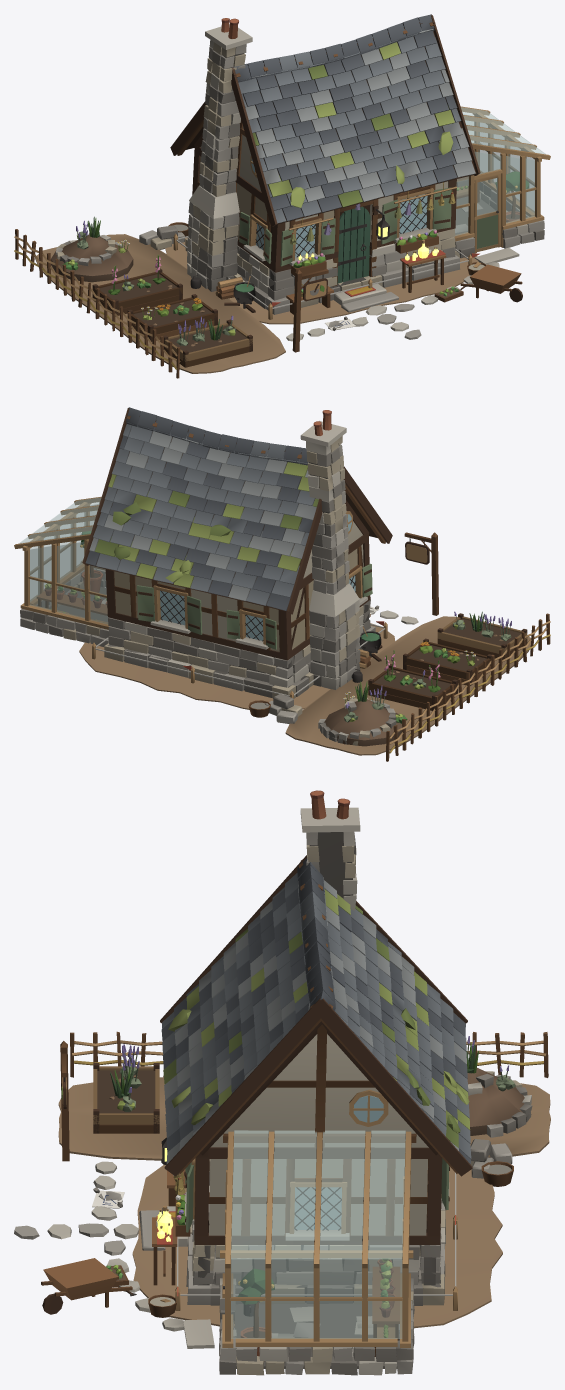
Rendered from apothecary.glb.
3 renders of one model, top to bottom at view 1: azimuth 30°, elevation 25°; view 2: azimuth 150°, elevation 25°; view 3: azimuth 270°, elevation 25°, orthographic. The views are drawn at different scales.
Visible parts, largest first — view 1: stage_06_mesh, stage_12_mesh, stage_09_mesh, stage_10_mesh, stage_08_mesh, greenhouse_glass, stage_04_mesh, stage_14_mesh, stage_01_mesh, stage_03_mesh, stage_07_mesh, stage_11_mesh (+2 smaller); view 2: stage_06_mesh, stage_12_mesh, stage_09_mesh, stage_03_mesh, stage_10_mesh, greenhouse_glass, stage_08_mesh, stage_01_mesh, stage_04_mesh, stage_05_mesh, stage_02_mesh, stage_14_mesh (+1 smaller); view 3: stage_06_mesh, greenhouse_glass, stage_10_mesh, stage_12_mesh, stage_05_mesh, stage_04_mesh, stage_01_mesh, stage_03_mesh, stage_08_mesh, stage_09_mesh, stage_11_mesh, stage_02_mesh (+2 smaller).
Part boxes in pixels (x1=…): stage_06_mesh: x1=170, y1=14, x2=480, y2=227; stage_12_mesh: x1=14, y1=229, x2=499, y2=378; stage_09_mesh: x1=187, y1=18, x2=252, y2=299; stage_10_mesh: x1=454, y1=106, x2=550, y2=263; stage_08_mesh: x1=239, y1=156, x2=451, y2=275; greenhouse_glass: x1=455, y1=107, x2=545, y2=235; stage_04_mesh: x1=192, y1=29, x2=522, y2=302; stage_14_mesh: x1=224, y1=182, x2=456, y2=352; stage_01_mesh: x1=165, y1=233, x2=479, y2=330; stage_03_mesh: x1=139, y1=222, x2=455, y2=300; stage_07_mesh: x1=334, y1=205, x2=398, y2=312; stage_11_mesh: x1=456, y1=143, x2=536, y2=252; stage_06_mesh: x1=82, y1=407, x2=392, y2=614; stage_12_mesh: x1=285, y1=607, x2=550, y2=761; stage_09_mesh: x1=300, y1=410, x2=370, y2=689; stage_03_mesh: x1=108, y1=600, x2=370, y2=723; stage_10_mesh: x1=14, y1=496, x2=109, y2=646; greenhouse_glass: x1=19, y1=497, x2=108, y2=624; stage_08_mesh: x1=137, y1=511, x2=372, y2=649; stage_01_mesh: x1=79, y1=605, x2=395, y2=709; stage_04_mesh: x1=105, y1=422, x2=370, y2=660; stage_05_mesh: x1=114, y1=521, x2=363, y2=651; stage_02_mesh: x1=104, y1=626, x2=375, y2=698; stage_14_mesh: x1=359, y1=532, x2=438, y2=661; stage_06_mesh: x1=160, y1=855, x2=472, y2=1176; greenhouse_glass: x1=231, y1=1130, x2=405, y2=1338; stage_10_mesh: x1=183, y1=1131, x2=416, y2=1375; stage_12_mesh: x1=14, y1=1031, x2=550, y2=1331; stage_05_mesh: x1=148, y1=1034, x2=428, y2=1317; stage_04_mesh: x1=41, y1=883, x2=442, y2=1314; stage_01_mesh: x1=92, y1=1164, x2=502, y2=1328; stage_03_mesh: x1=192, y1=1139, x2=513, y2=1285; stage_08_mesh: x1=175, y1=1089, x2=449, y2=1240; stage_09_mesh: x1=300, y1=790, x2=360, y2=910; stage_11_mesh: x1=223, y1=1258, x2=402, y2=1361; stage_02_mesh: x1=186, y1=1203, x2=445, y2=1305.
Bounding box in the file's own units: 11.99 × 7.05 × 8.89.
